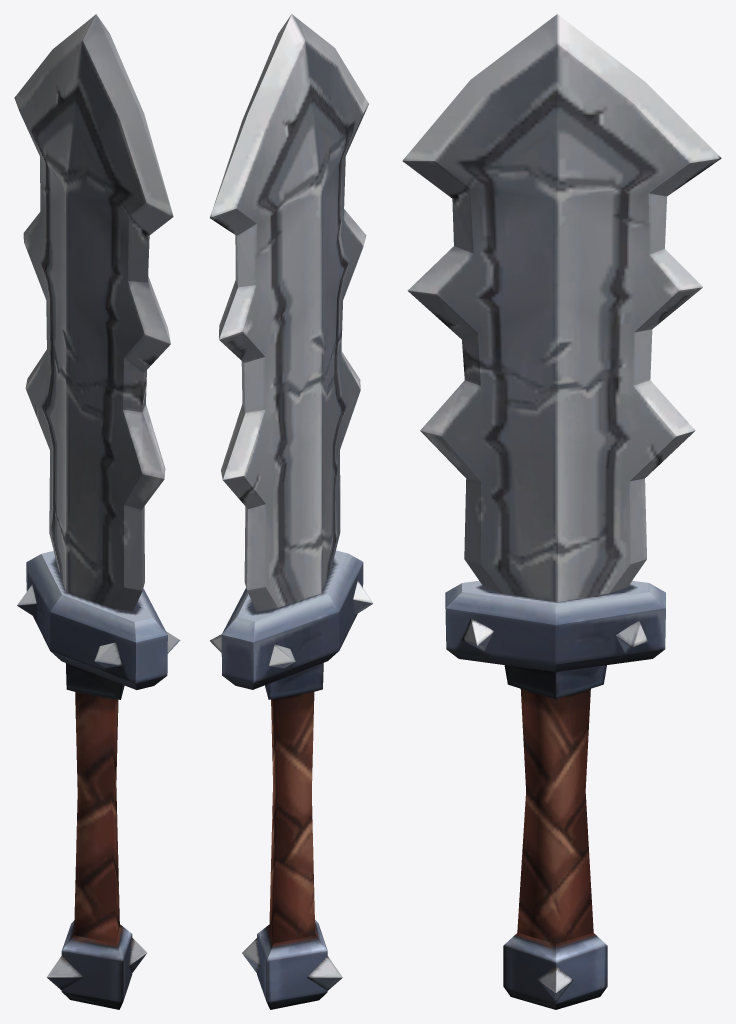
File: sword05.fbx
3 views of the same model, side by side, from view 1: azimuth 30°, elevation 25°; view 2: azimuth 150°, elevation 25°; view 3: azimuth 270°, elevation 25° (orthographic).
Visible parts, largest first — view 1: sword05_mat; view 2: sword05_mat; view 3: sword05_mat.
Part boxes in pixels (x1,y1,x2,y2): sword05_mat: (14, 14, 180, 1009); sword05_mat: (210, 14, 373, 1009); sword05_mat: (402, 14, 721, 1009).
Bounding box in the file's own units: 0.1777 × 1.65 × 0.485.
